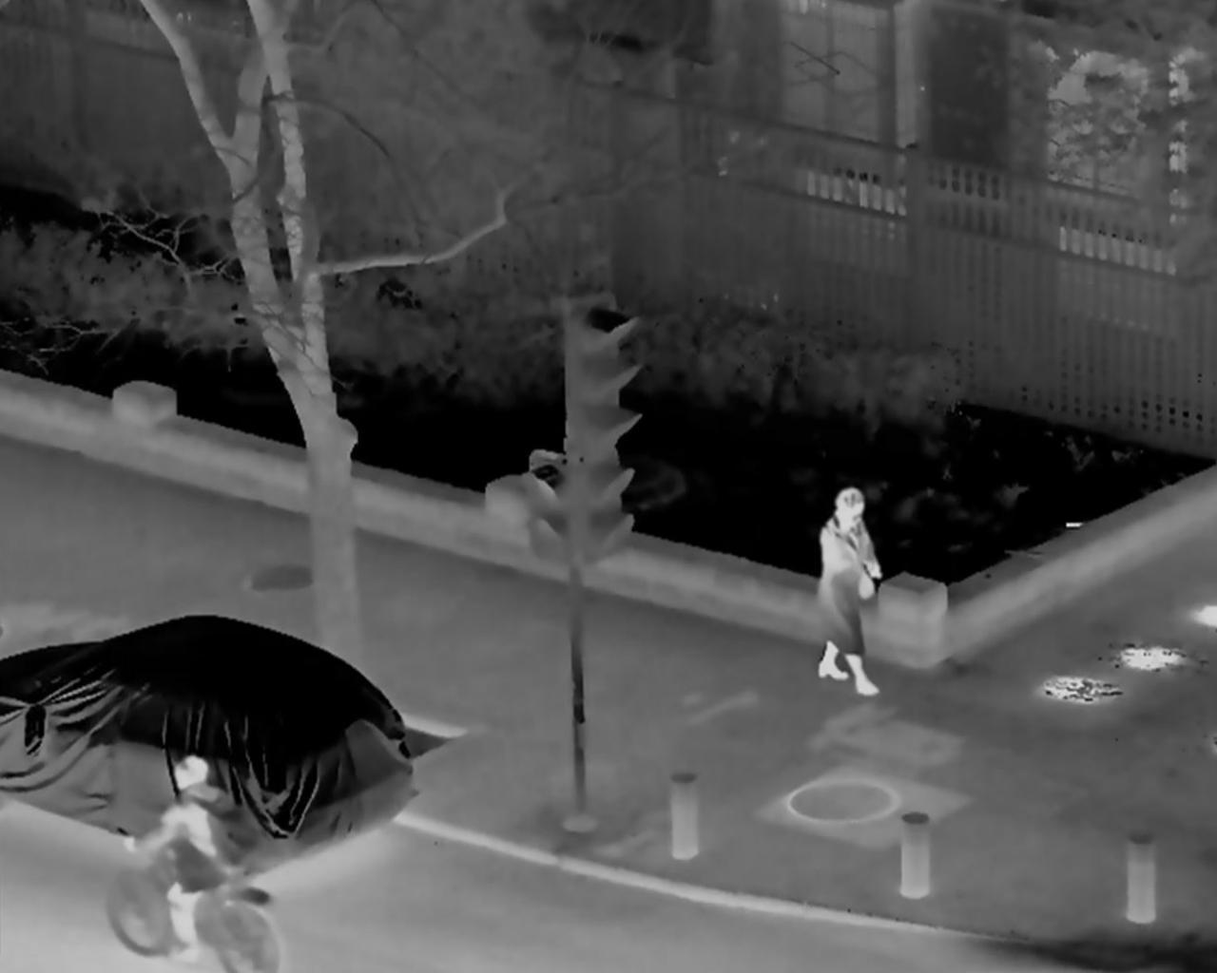person: (126, 756, 250, 960), (805, 484, 892, 694)
